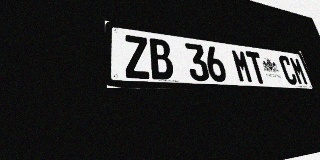3: (184, 43, 210, 81)
6: (203, 45, 228, 82)
B: (147, 38, 175, 80)
C: (277, 55, 299, 85)
M: (230, 49, 254, 83), (289, 57, 309, 85)
T: (245, 51, 268, 84)
Z: (123, 34, 151, 79)
